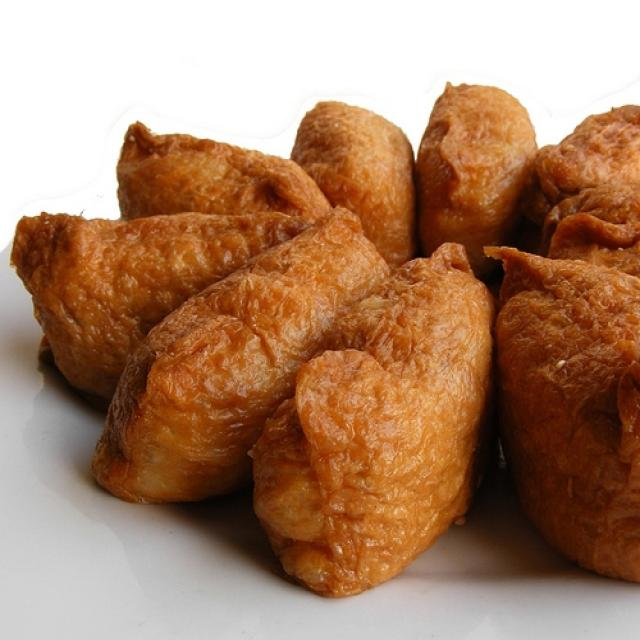寿司卷物: (19, 26, 624, 599)
